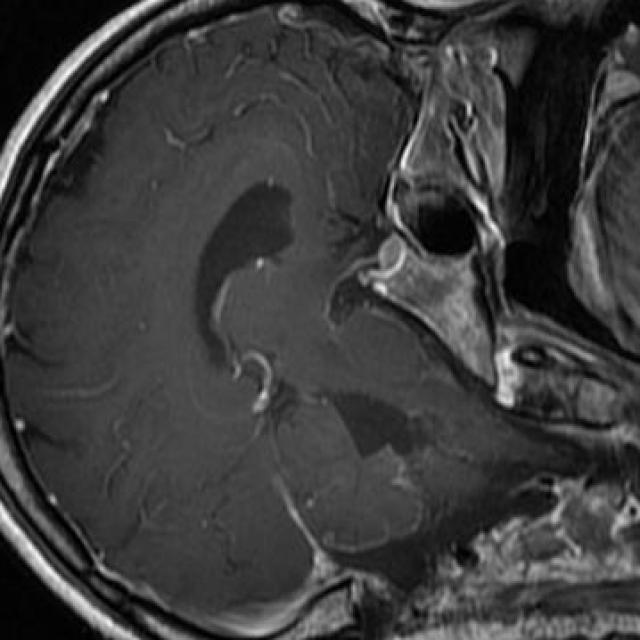glioma: (332, 396, 442, 460)
